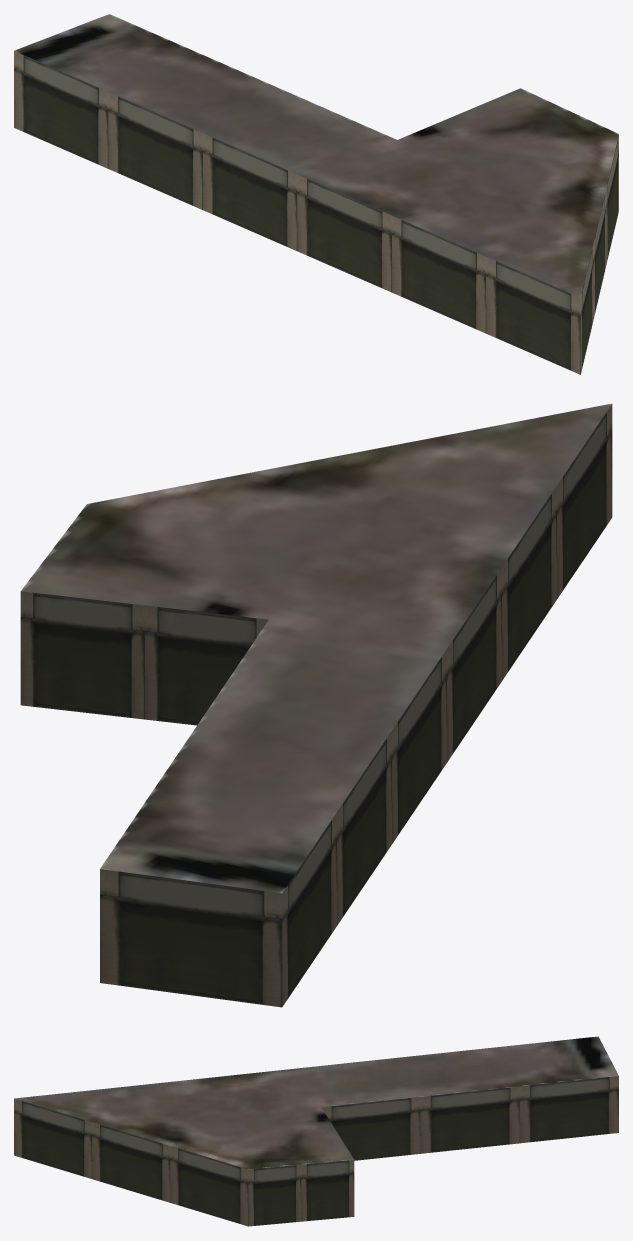
The model's file is T_1SXKL4P2U9.dae.
3 renders of one model, top to bottom at view 1: azimuth 30°, elevation 25°; view 2: azimuth 150°, elevation 25°; view 3: azimuth 270°, elevation 25°, orthographic. The views are drawn at different scales.
Visible parts, largest first — view 1: SketchUp (×3); view 2: SketchUp (×4); view 3: SketchUp (×4).
Part boxes in pixels (x1=…): SketchUp (×3): x1=14, y1=14, x2=618, y2=374; SketchUp (×4): x1=20, y1=403, x2=612, y2=1007; SketchUp (×4): x1=14, y1=1036, x2=618, y2=1226.
Size of the model in its own units: 18.26 by 35.09 by 3.65.
2 materials, 2 textured.
